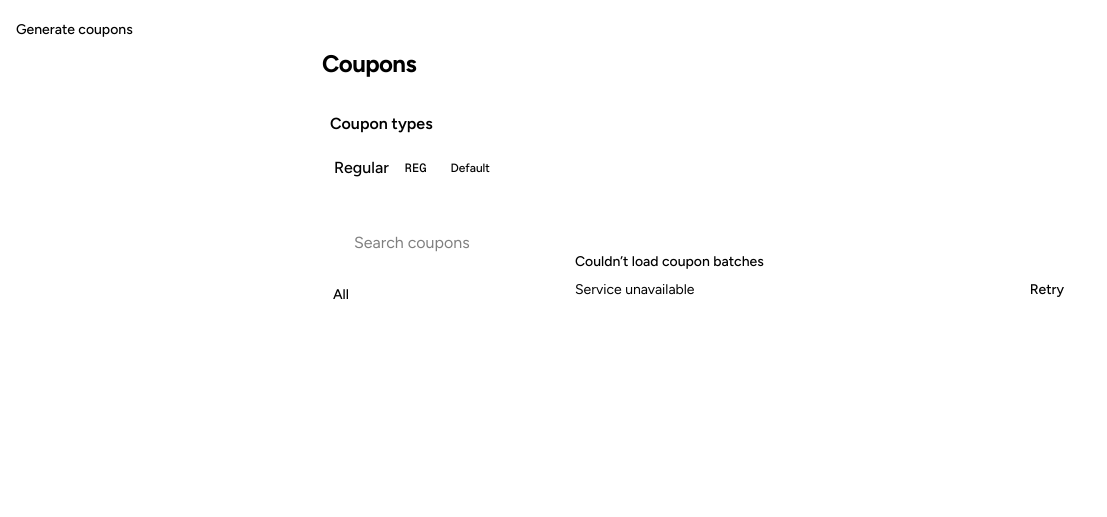
Scenario: does not claim no coupons when the batch read fails
Expected: the text "Couldn’t load coupon batches" is shown, x1=575 y1=253 x2=764 y2=270
Expected: the text "No coupons" is not shown
Click the button "Retry".
click(1047, 290)  # box x1=1020 y1=274 x2=1074 y2=306
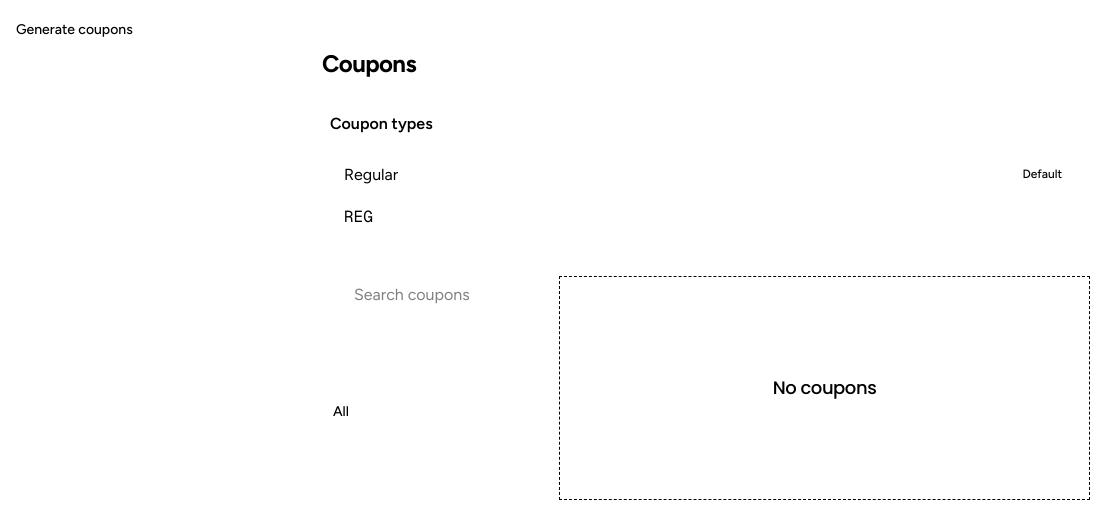
Now the text "No coupons" is shown, box x1=773 y1=374 x2=876 y2=402
